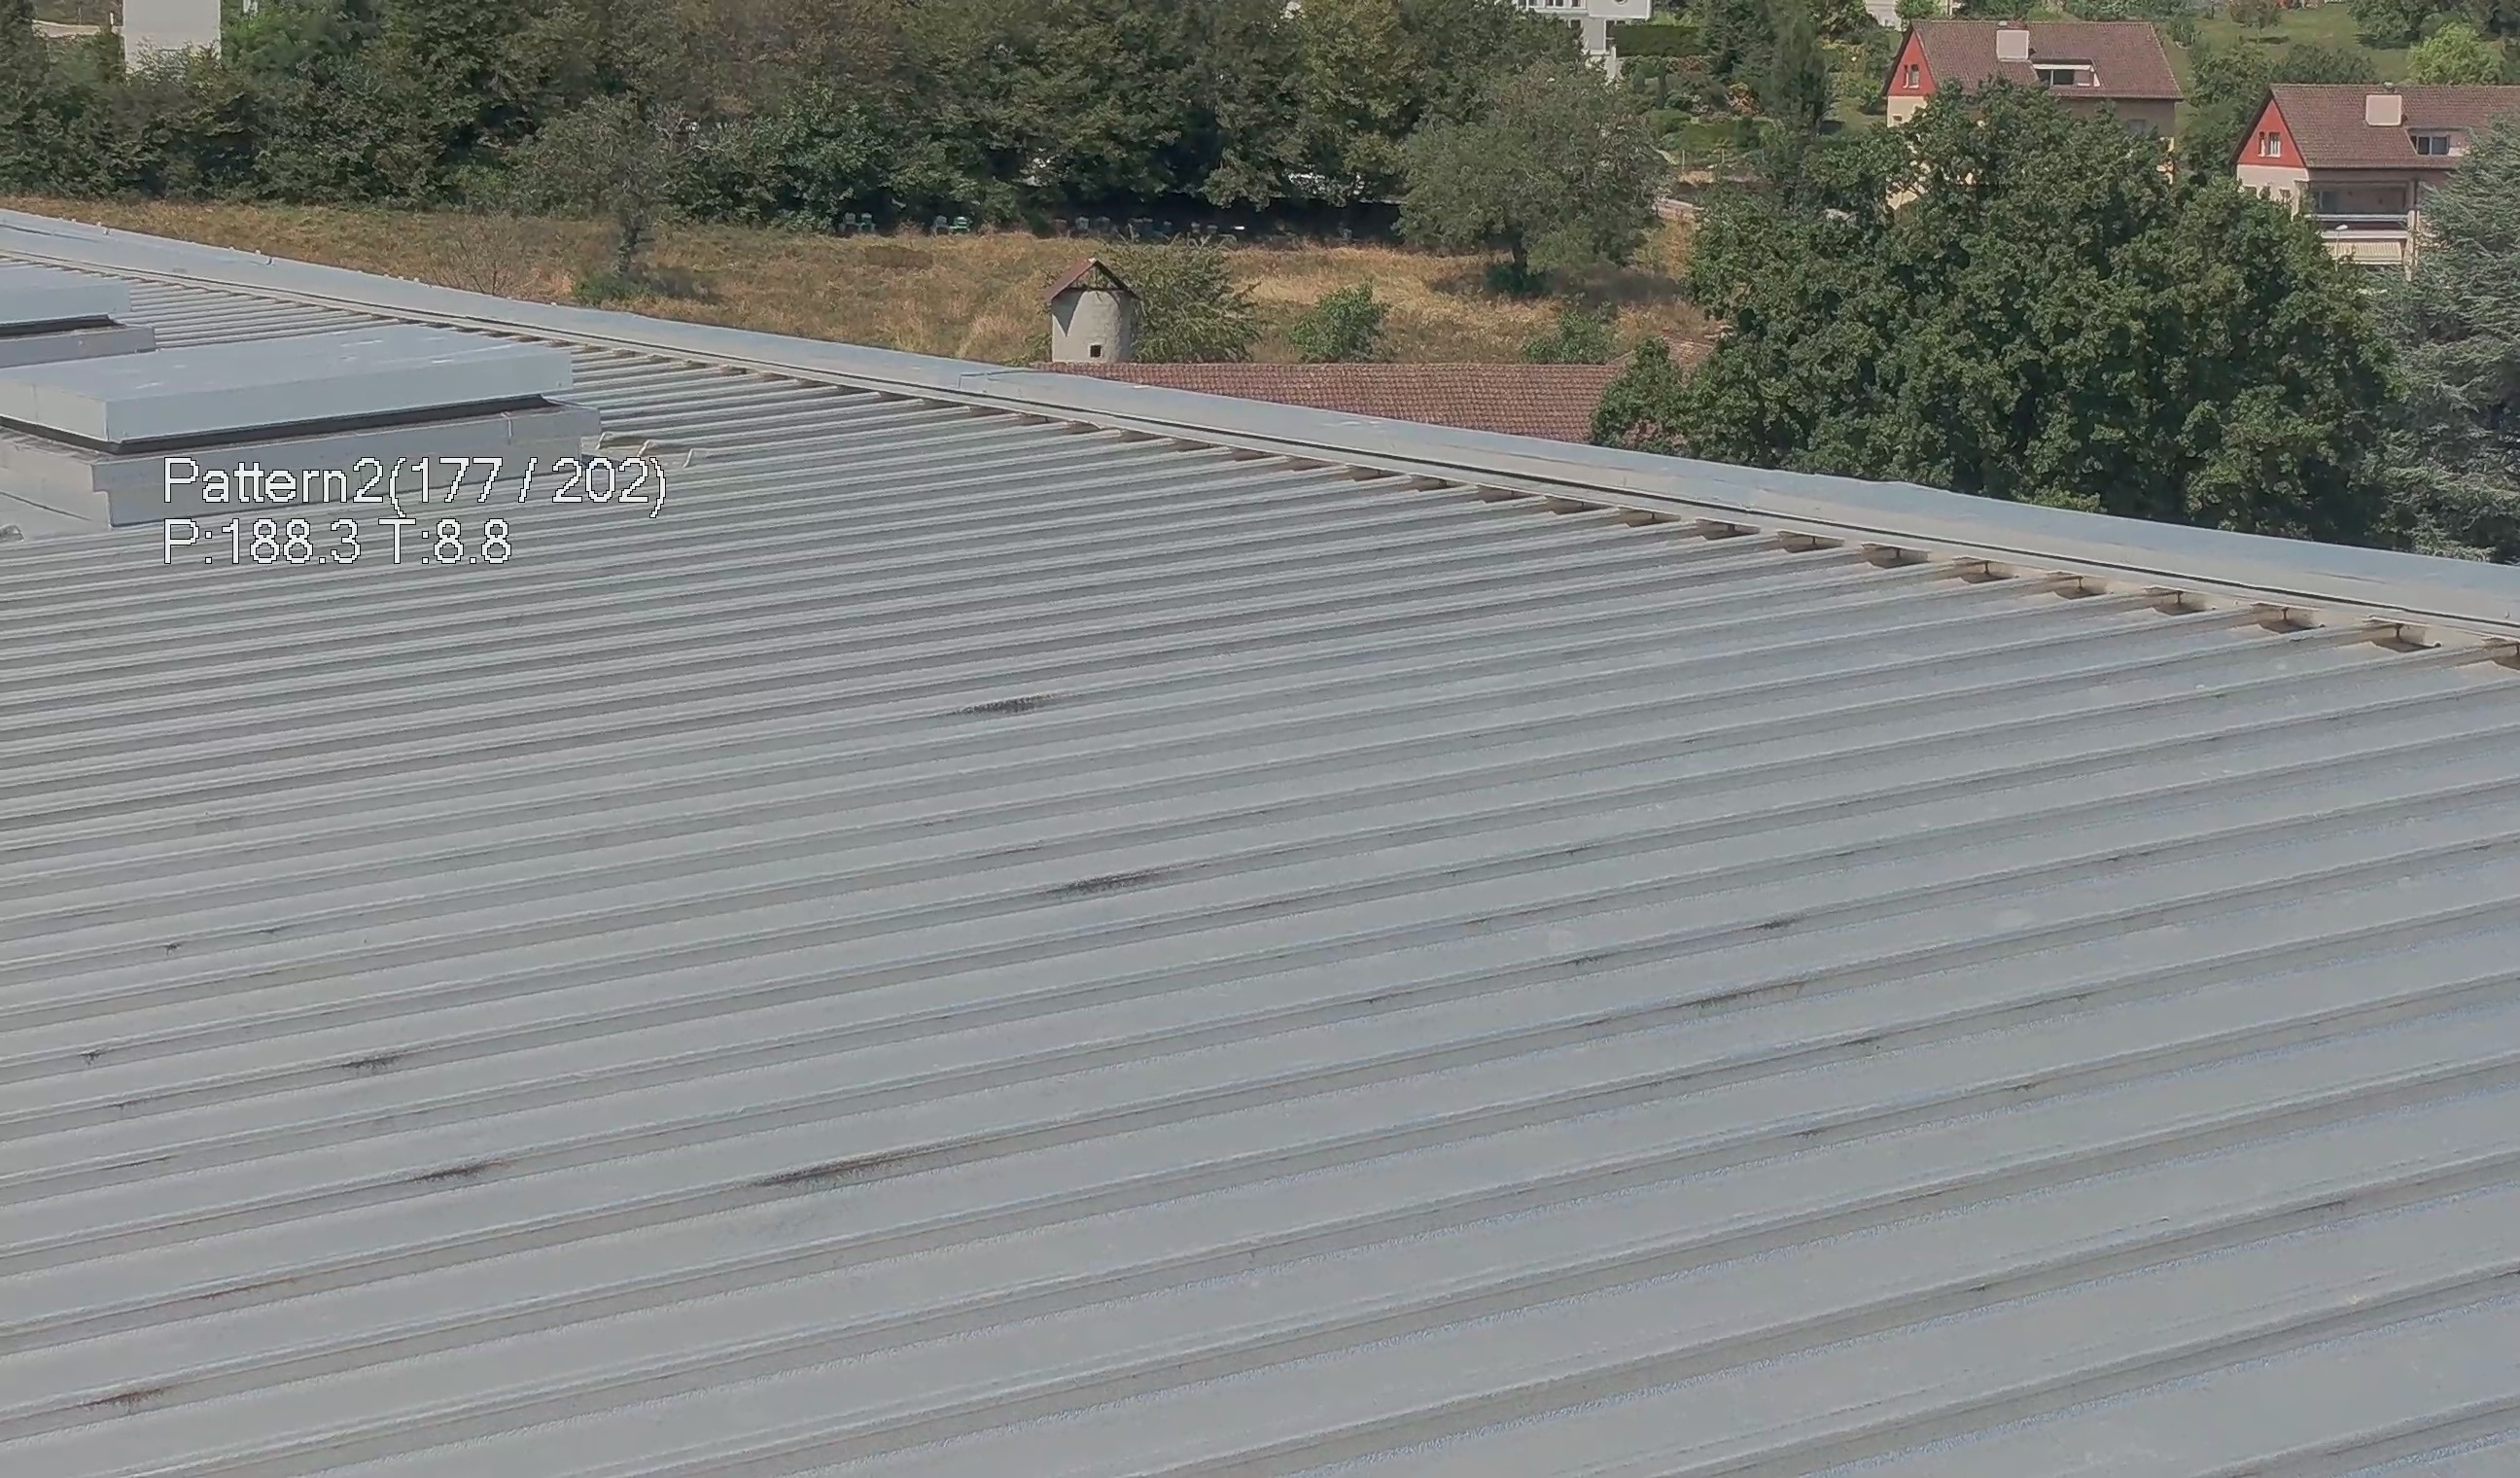Other: (1038, 234, 1145, 375)
